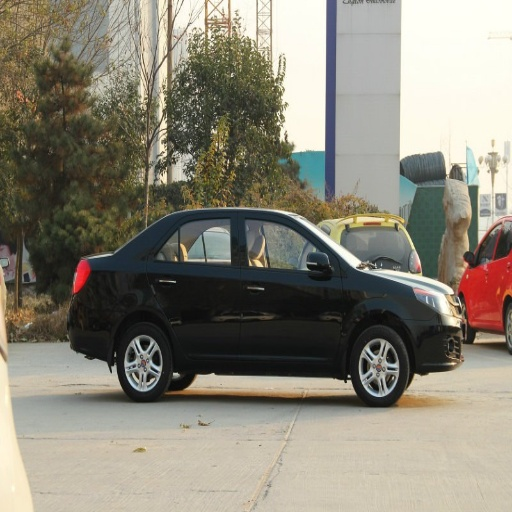back_right_door: (149, 212, 239, 354)
front_right_door: (239, 213, 342, 359)
